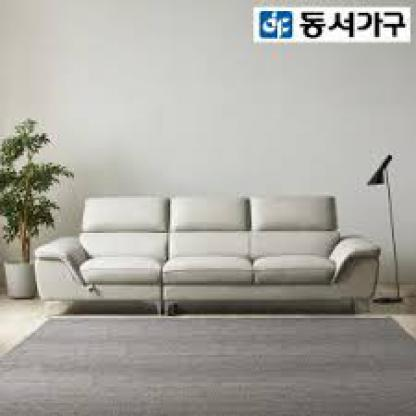sofa: (39, 194, 375, 314)
